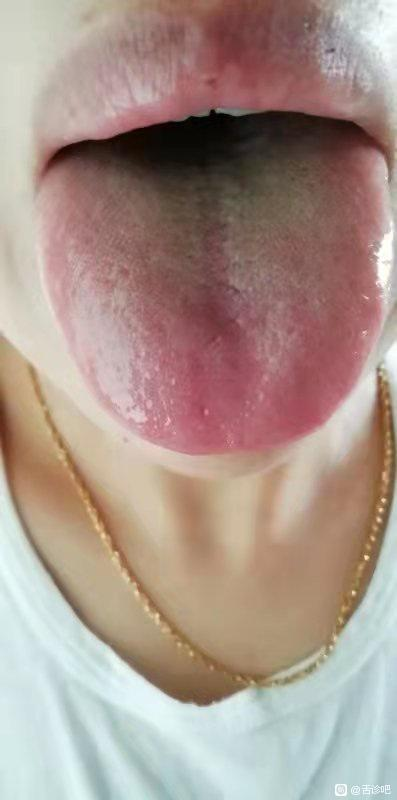hongshe: (36, 119, 393, 454)
huangtaishe: (36, 119, 393, 454)
